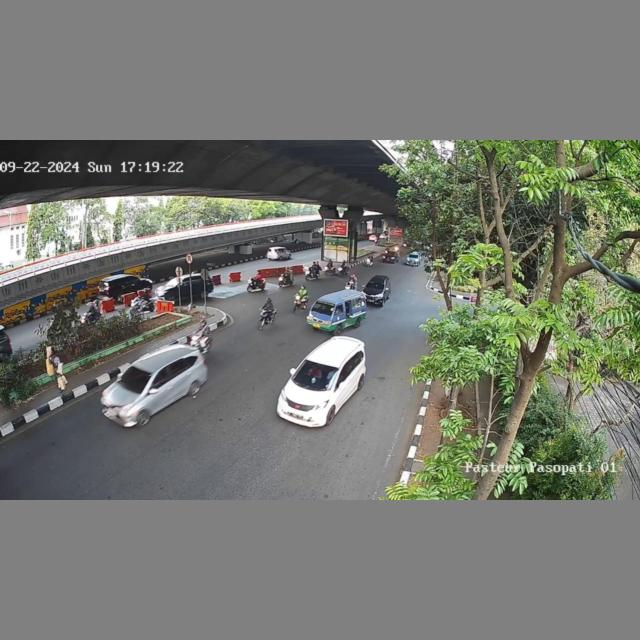windshield: (293, 359, 342, 390), (121, 367, 151, 393), (311, 300, 334, 316), (366, 281, 385, 291)
